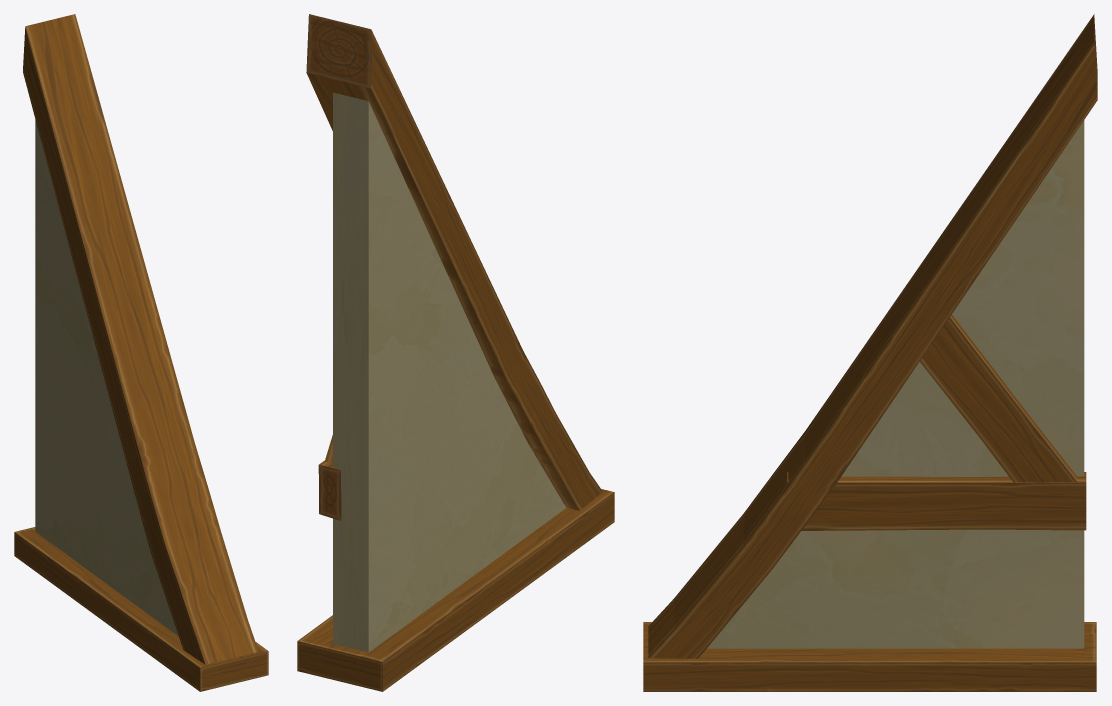
Rendered from SM_House_Roof_01_WallBottom_Standard_02.fbx.
3 views of the same model, side by side, from view 1: azimuth 30°, elevation 25°; view 2: azimuth 150°, elevation 25°; view 3: azimuth 270°, elevation 25° (orthographic). The views are drawn at different scales.
Visible parts, largest first — view 1: SM_House_Roof_01_WallBottom_Standard_02; view 2: SM_House_Roof_01_WallBottom_Standard_02; view 3: SM_House_Roof_01_WallBottom_Standard_02.
Part boxes in pixels (<box>): SM_House_Roof_01_WallBottom_Standard_02: <box>14,14,268,691</box>; SM_House_Roof_01_WallBottom_Standard_02: <box>297,14,614,691</box>; SM_House_Roof_01_WallBottom_Standard_02: <box>643,14,1097,691</box>.
Size of the model in its own units: 0.3803 by 2.8 by 1.79.
